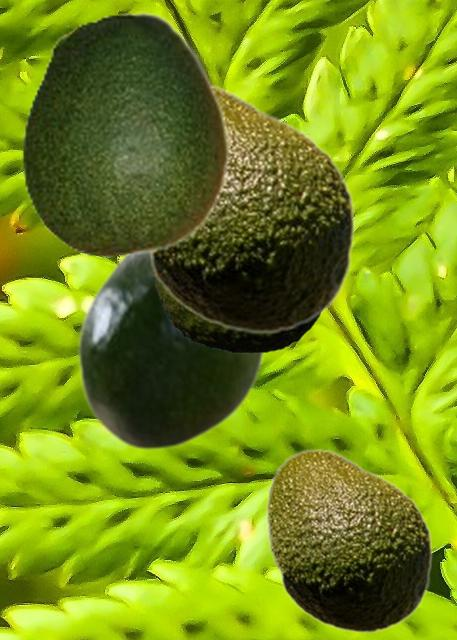avocado: (146, 83, 355, 334), (21, 11, 229, 256), (76, 255, 264, 450), (265, 448, 432, 633), (151, 272, 323, 352)
